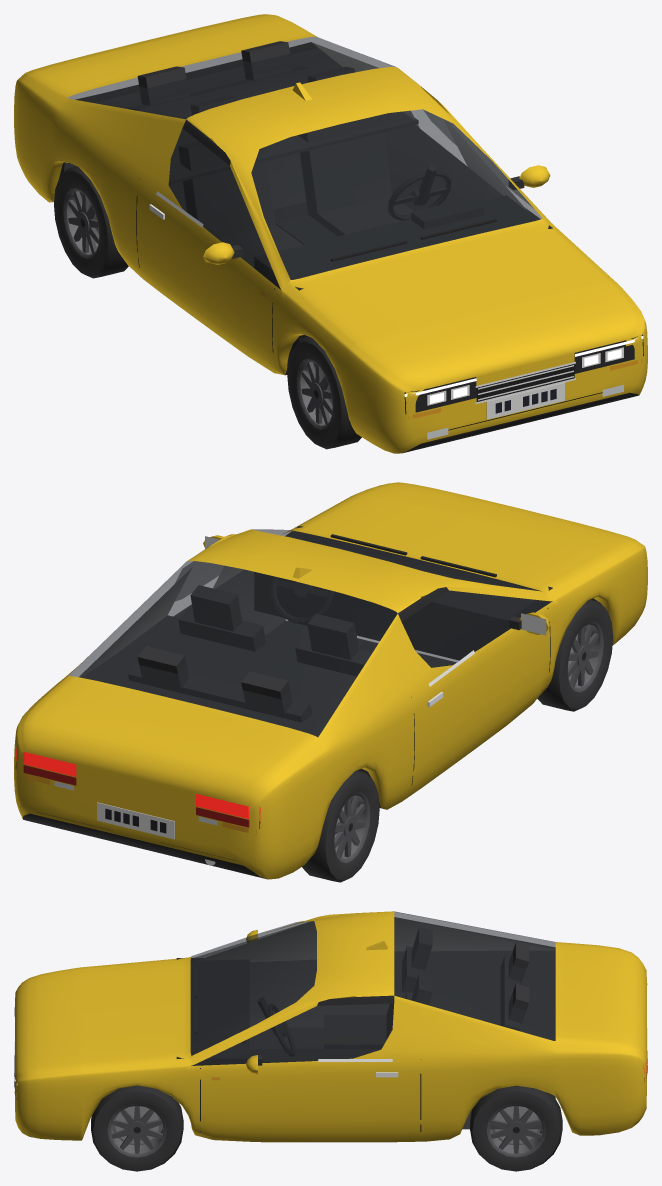
Rendered from coupe_yellow.glb.
The picture shows the model from 3 angles, top to bottom: view 1: azimuth 30°, elevation 25°; view 2: azimuth 150°, elevation 25°; view 3: azimuth 270°, elevation 25°; orthographic projection. The views are drawn at different scales.
Visible parts, largest first — view 1: coupe_yellow_body, Wheel_RR, Wheel_FR; view 2: coupe_yellow_body, Wheel_RR, Wheel_FR; view 3: coupe_yellow_body, Wheel_RL, Wheel_FL.
Part boxes in pixels (x1=…): coupe_yellow_body: x1=14, y1=14, x2=647, y2=453; Wheel_RR: x1=54, y1=166, x2=128, y2=278; Wheel_FR: x1=287, y1=337, x2=361, y2=449; coupe_yellow_body: x1=14, y1=482, x2=647, y2=879; Wheel_RR: x1=302, y1=770, x2=379, y2=882; Wheel_FR: x1=537, y1=599, x2=613, y2=711; coupe_yellow_body: x1=14, y1=911, x2=647, y2=1142; Wheel_RL: x1=470, y1=1085, x2=562, y2=1171; Wheel_FL: x1=91, y1=1085, x2=183, y2=1171.
Bounding box in the file's own units: 0.1154 × 0.0698 × 0.2258.
8 materials, 1 textured.
